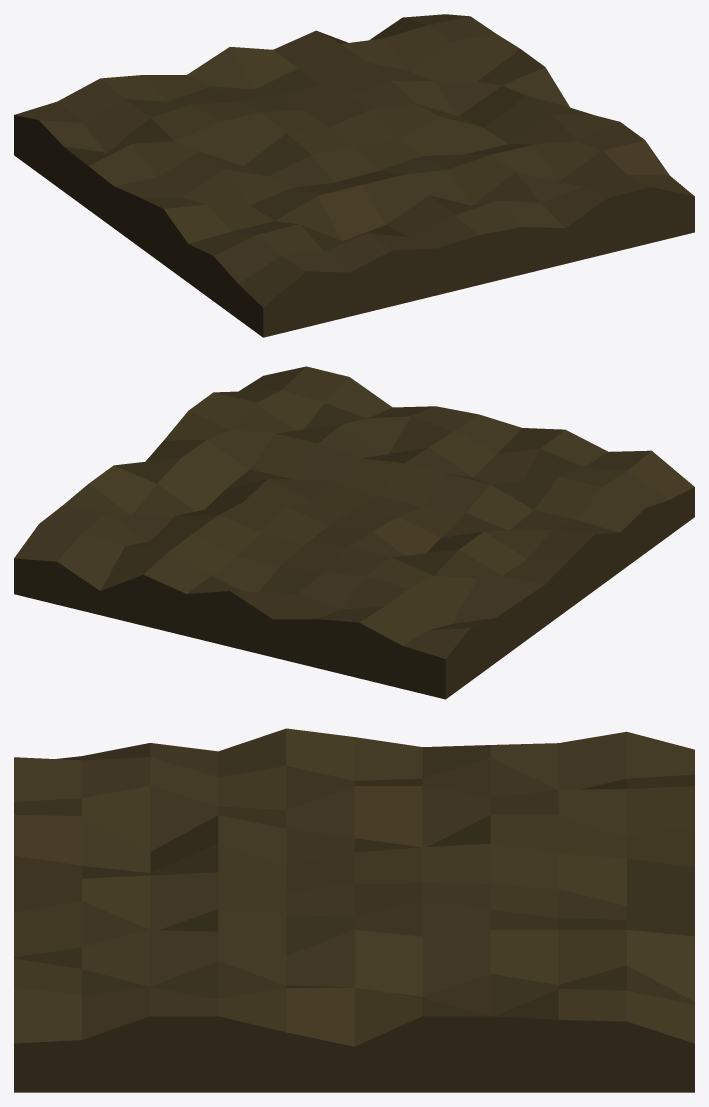
File: Dirt_FloorTile.fbx
The picture shows the model from 3 angles, top to bottom: view 1: azimuth 30°, elevation 25°; view 2: azimuth 150°, elevation 25°; view 3: azimuth 270°, elevation 25°; orthographic projection. The views are drawn at different scales.
Parts seen in each view (by area): view 1: pPlane2; view 2: pPlane2; view 3: pPlane2.
Boxes of the visible parts, x1,y1,x2,y2 form: pPlane2: [14, 14, 694, 337]; pPlane2: [14, 366, 694, 699]; pPlane2: [14, 728, 694, 1092].
Size of the model in its own units: 5 by 0.6182 by 5.
Materials: 1 (1 with a texture image).
